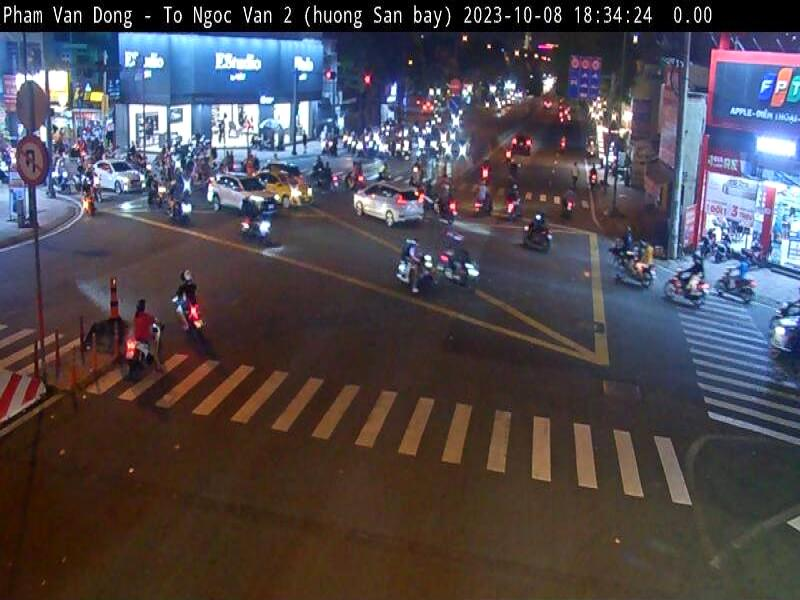car: (347, 176, 425, 232), (200, 169, 272, 224), (256, 163, 312, 224)
